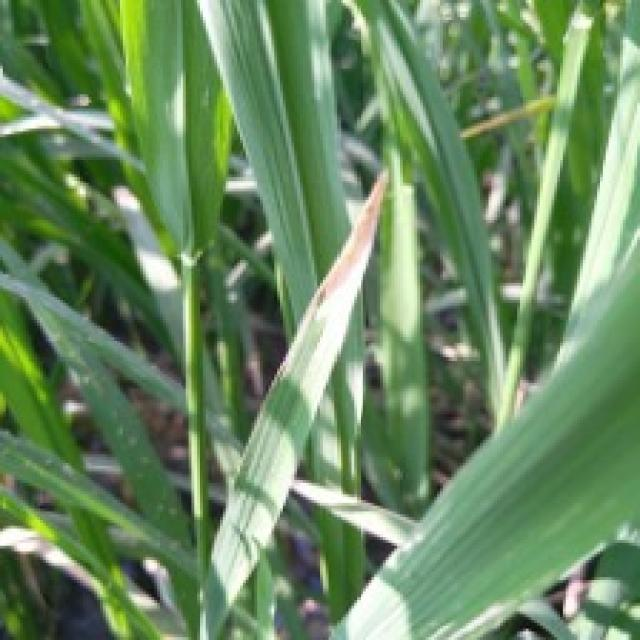Rice___Rice_Blast: (206, 168, 392, 637)
